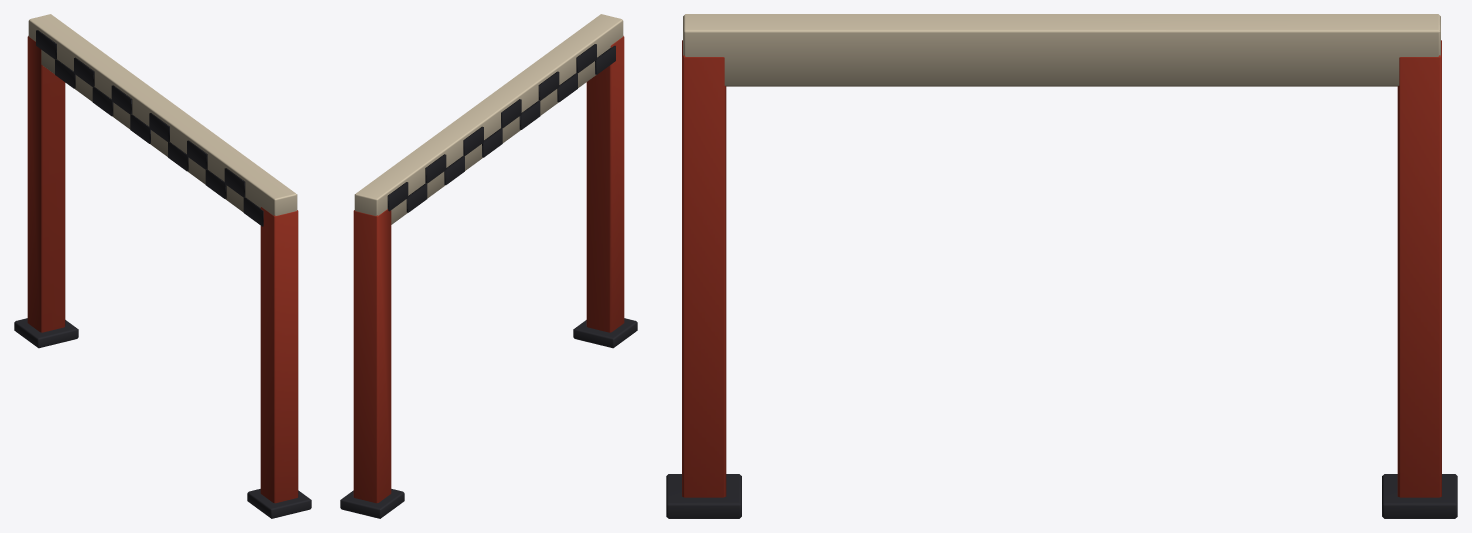
File: start_arch.glb
The picture shows the model from 3 angles, left to right: view 1: azimuth 30°, elevation 25°; view 2: azimuth 150°, elevation 25°; view 3: azimuth 270°, elevation 25°; orthographic projection. The views are drawn at different scales.
Parts seen in each view (by area): view 1: Finish upright; view 2: Finish upright; view 3: Finish upright.
Boxes of the visible parts, box(x1,y1,x2,y2) form: Finish upright: box(14, 14, 311, 518); Finish upright: box(340, 14, 637, 518); Finish upright: box(666, 14, 1457, 518).
Size of the model in its own units: 0.7 by 5.06 by 7.52.
